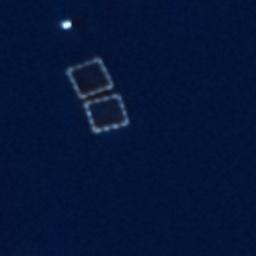square_solid: (78, 89, 134, 138), (63, 54, 120, 101)
